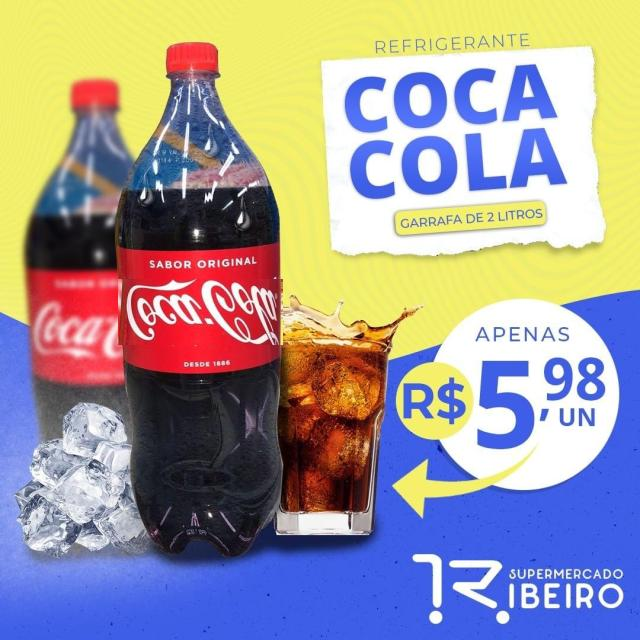coca-cola: (118, 280, 283, 346), (31, 300, 130, 364)
